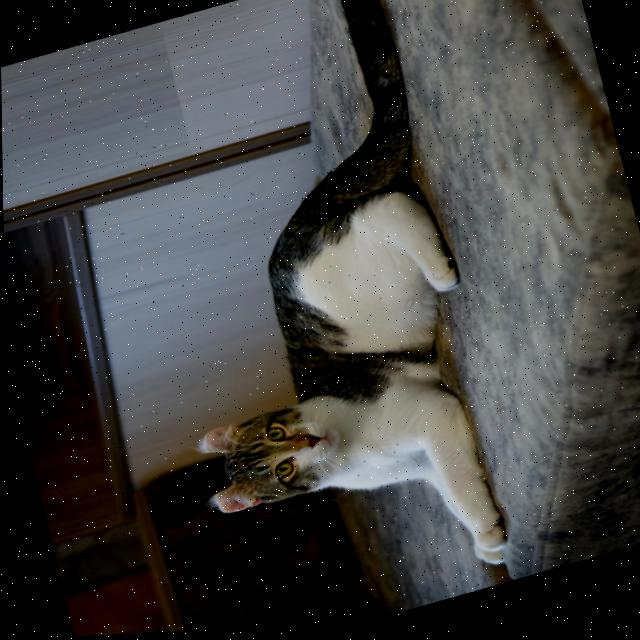American Curl: (89, 0, 529, 636)
